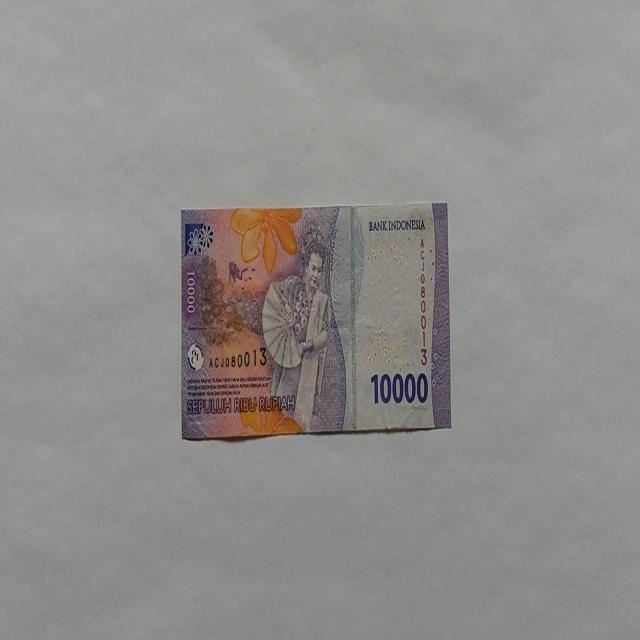sepuluh ribu rupiah: (180, 202, 452, 440)
